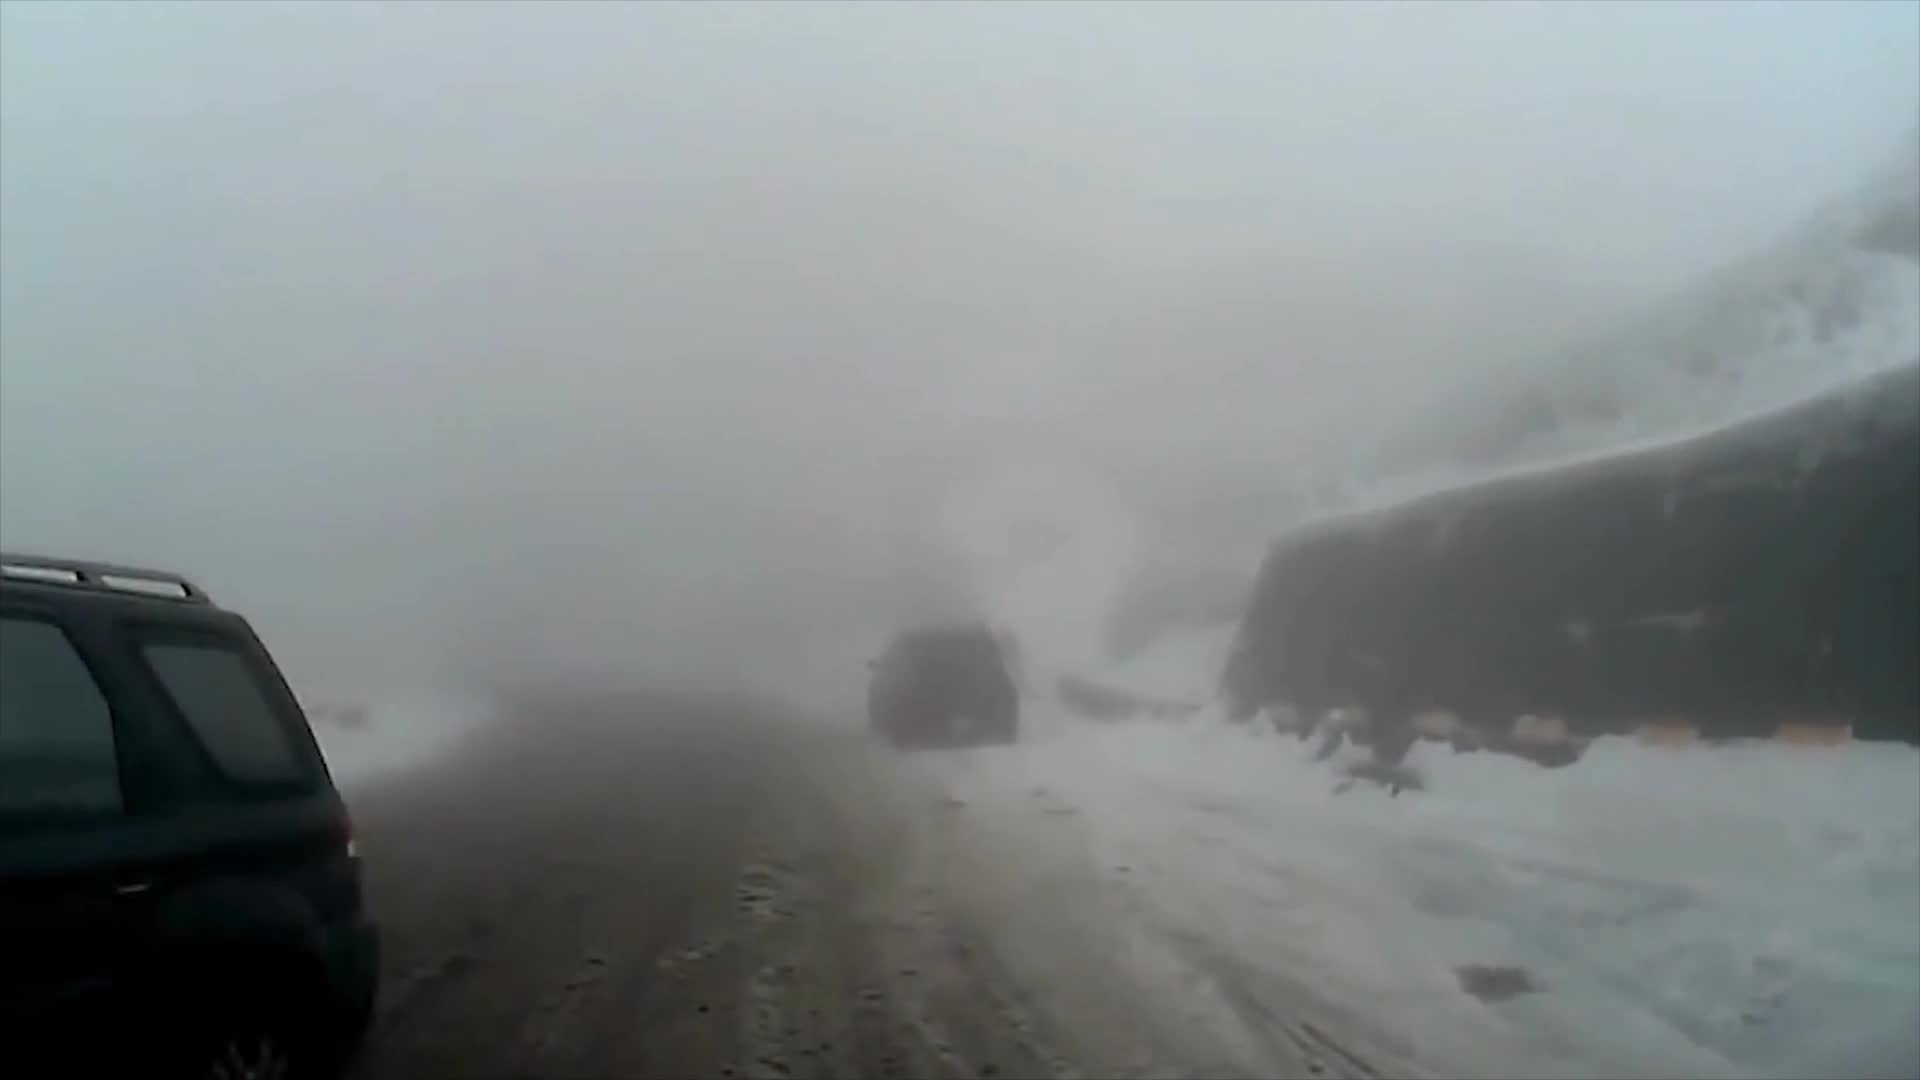vehicle: (0, 549, 377, 1073), (862, 616, 1018, 749)
